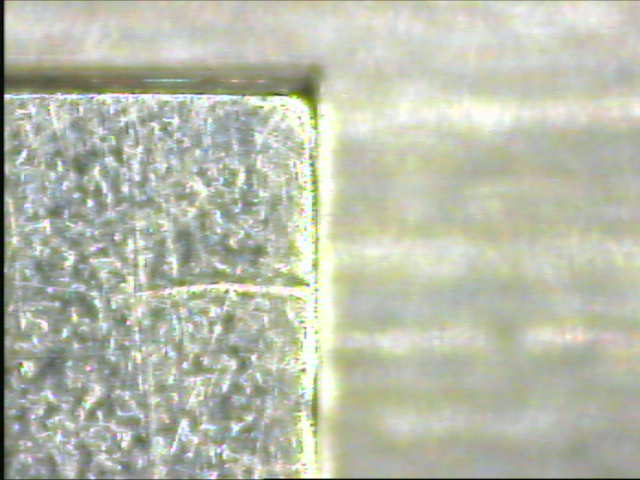edge: (298, 64, 346, 480)
